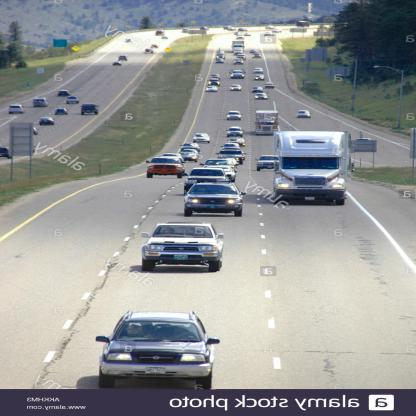car: (97, 309, 218, 391), (142, 225, 224, 273), (185, 184, 244, 218), (147, 159, 186, 183), (256, 154, 280, 172), (82, 105, 100, 118), (9, 104, 25, 116), (197, 132, 212, 143), (41, 116, 56, 127), (228, 111, 244, 120), (298, 110, 313, 119), (34, 98, 49, 107), (256, 94, 268, 100)
container: (274, 132, 352, 210)
